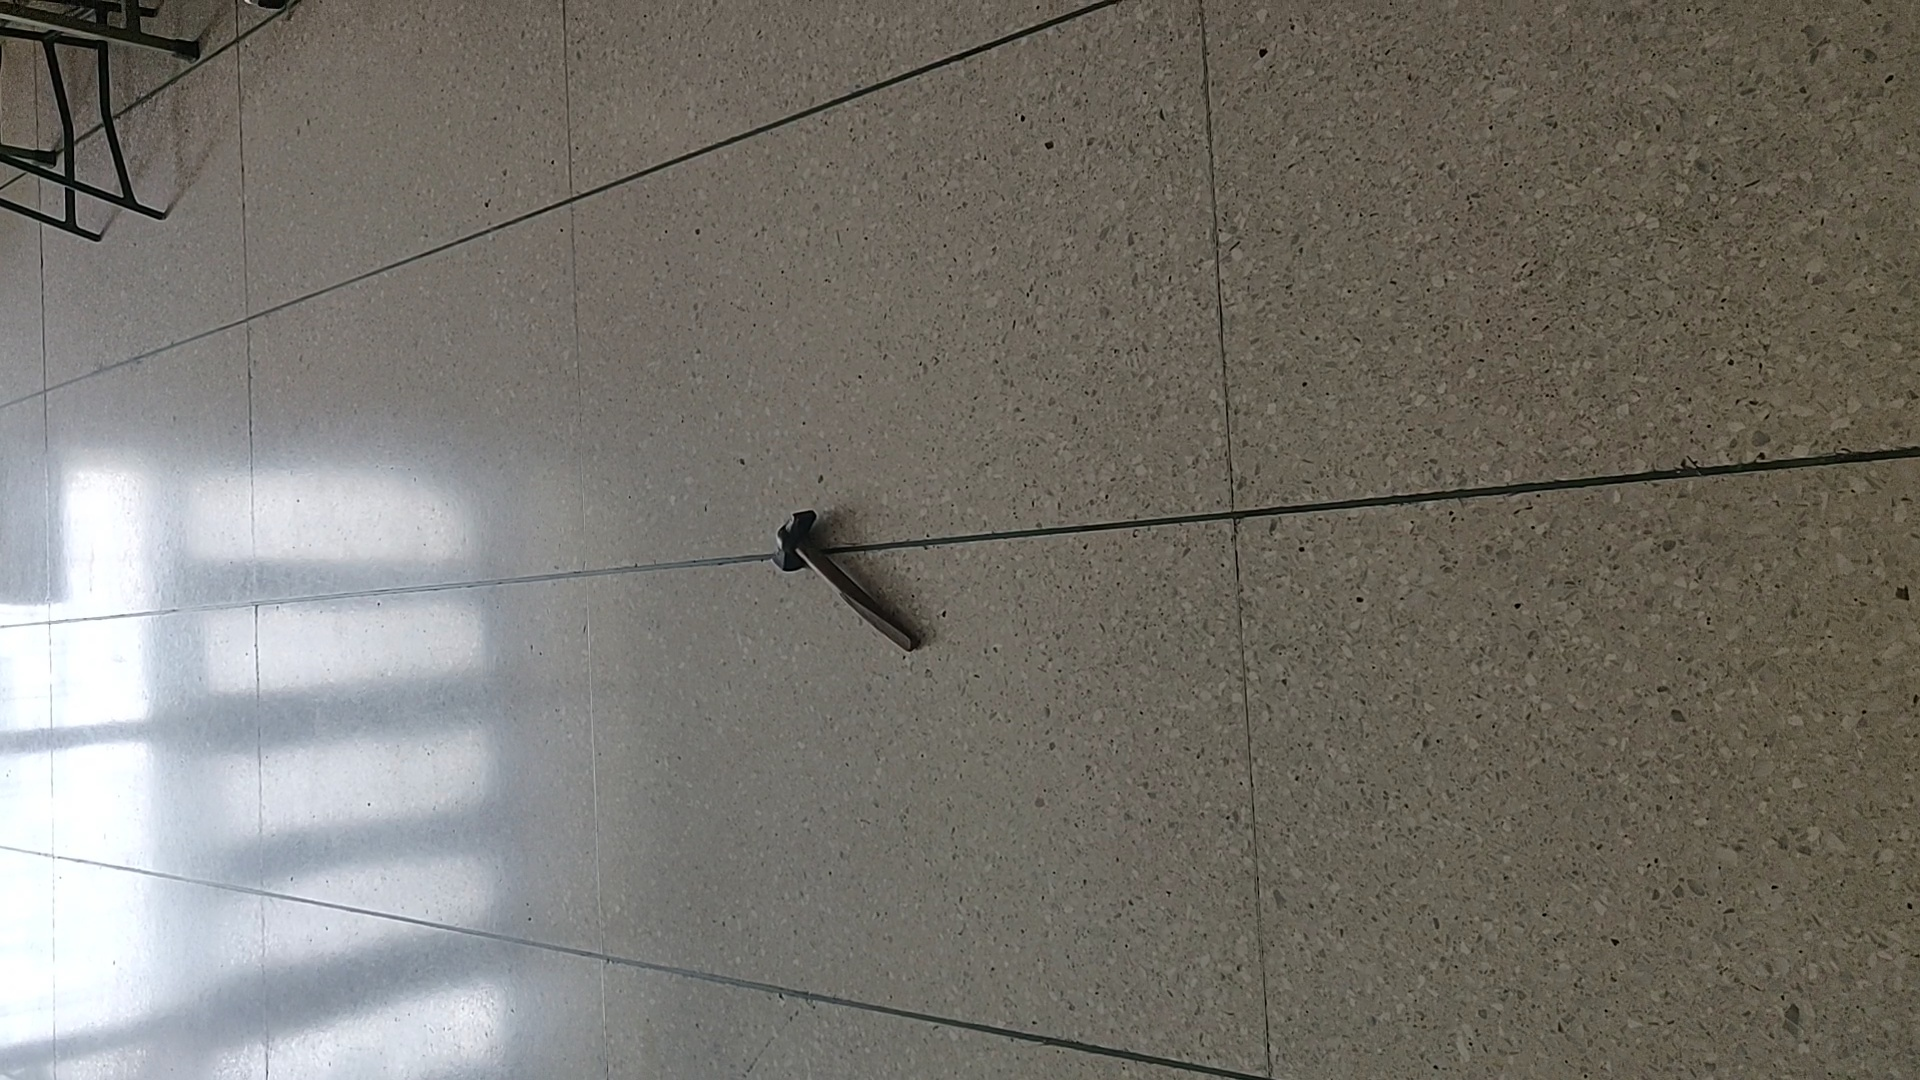hammer: (769, 504, 924, 657)
